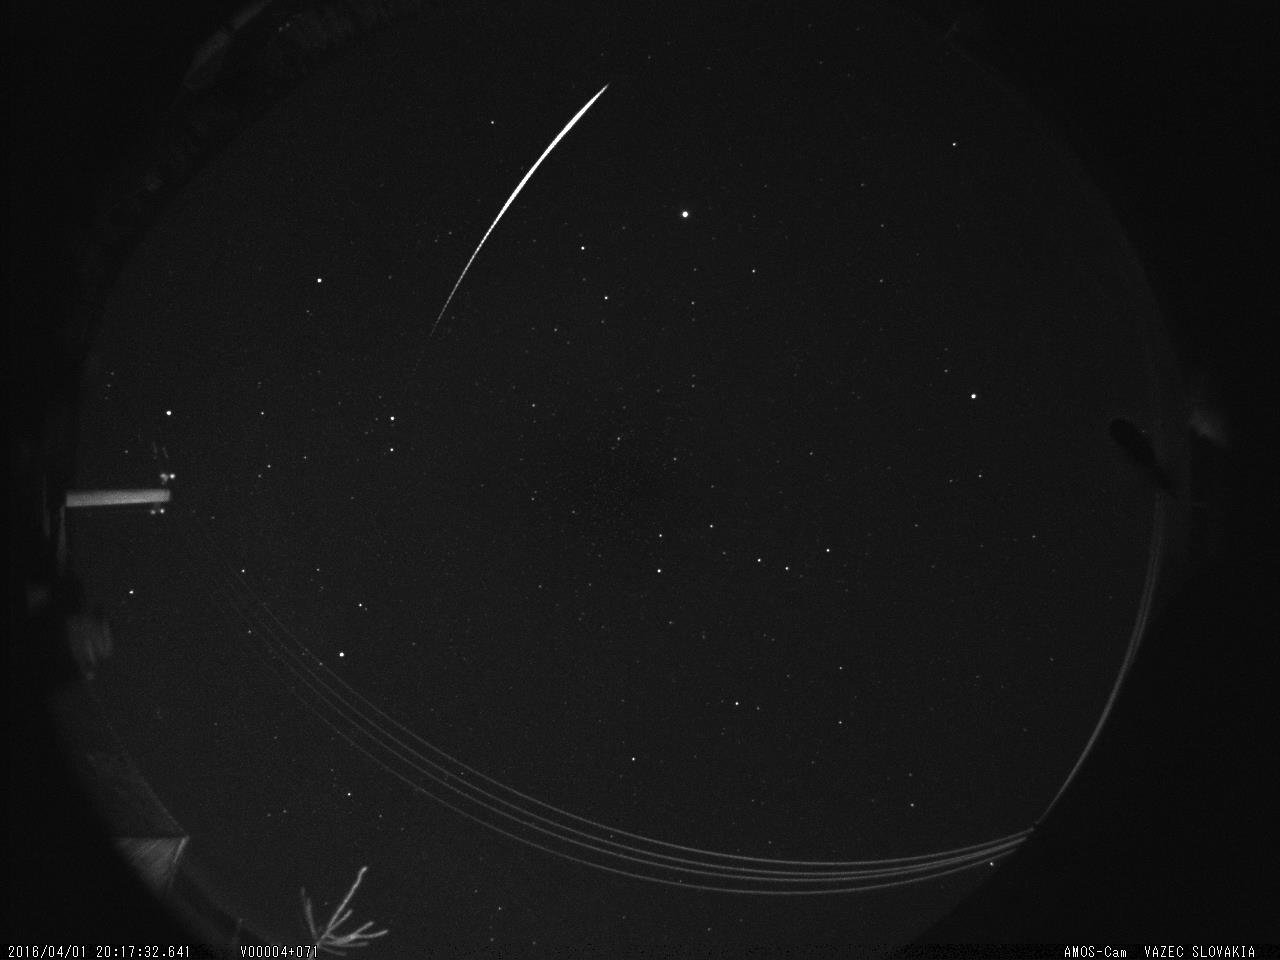meteor: (383, 76, 668, 345)
